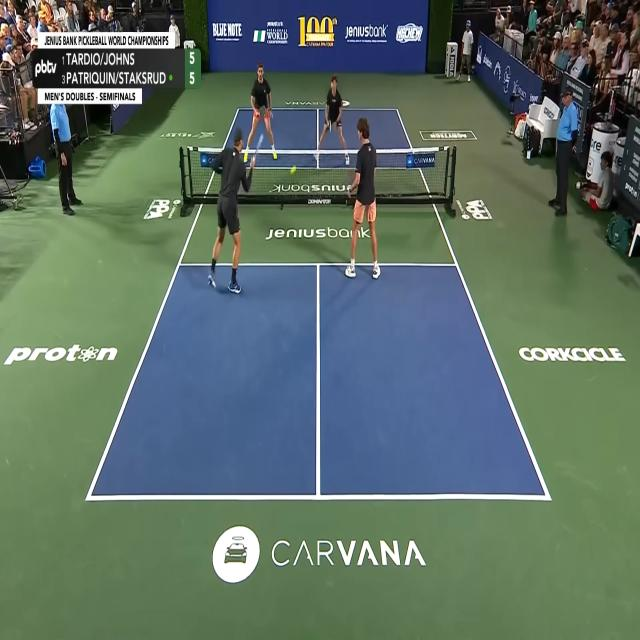ball: (290, 164, 296, 175)
